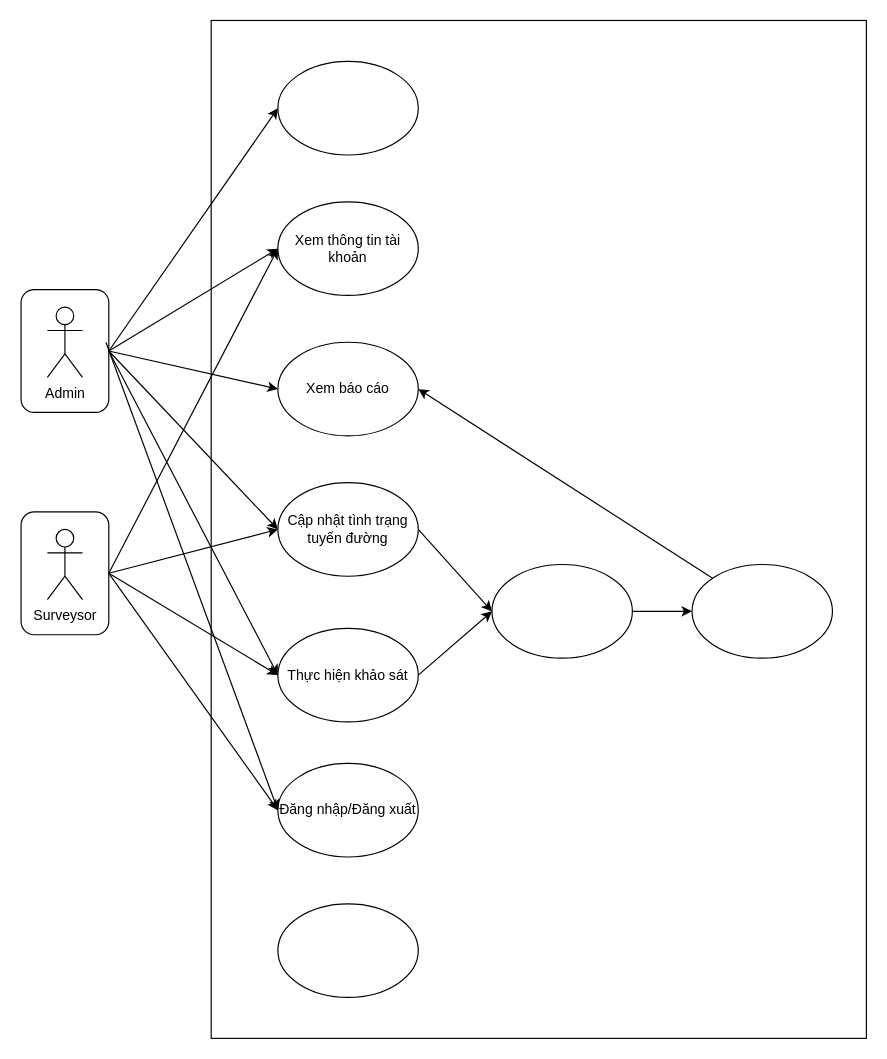
Some shapes in this 887 by 1059 pixel diagram are drawn without their labels. The shapes that lost their labels are listed below. From the top down, each one's box as (x1, y1, x2, y2) in pixels, then its label:
(277, 60, 418, 155): Quản lý tài khoản
(491, 563, 632, 658): Phân tích ảnh
(691, 563, 832, 658): Lưu dữ liệu vào hệ thống
(277, 903, 418, 997): Đăng ký
